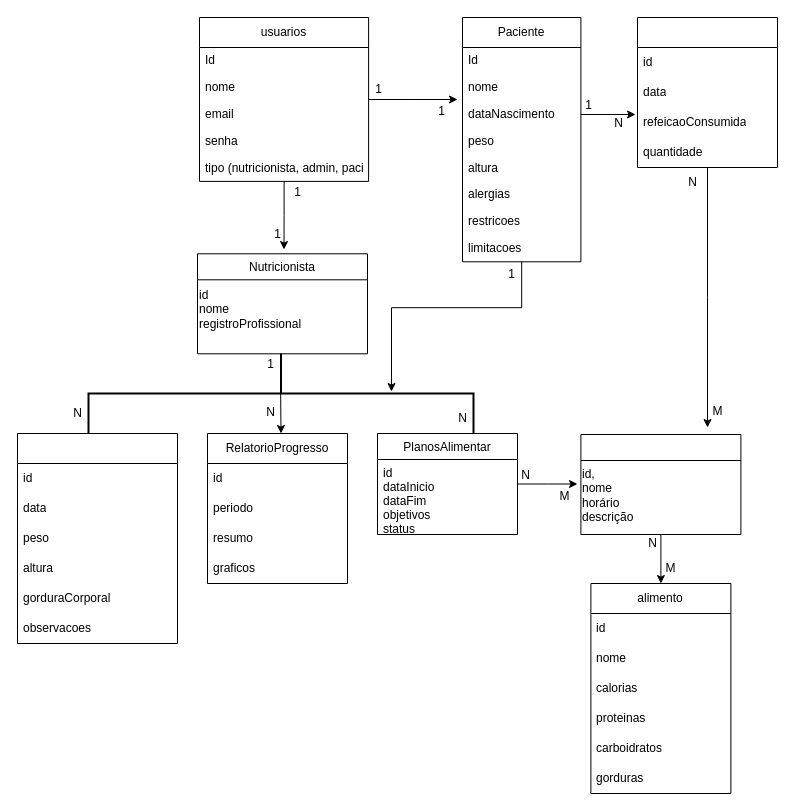
Image size: 795x811. Some labels were removed from this diagram. Each missing label, with the box of its shape:
AvaliacaoNutricional: (16, 432, 178, 644)
Refeicao: (580, 434, 741, 534)
RegistroRefeicao: (636, 16, 778, 168)
